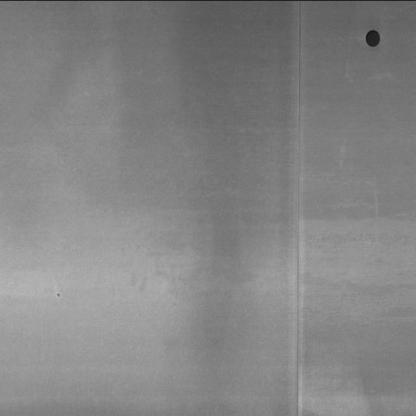oil_spot: (50, 291, 67, 299)
punching_hole: (362, 26, 384, 50)
welding_line: (284, 1, 314, 414)
